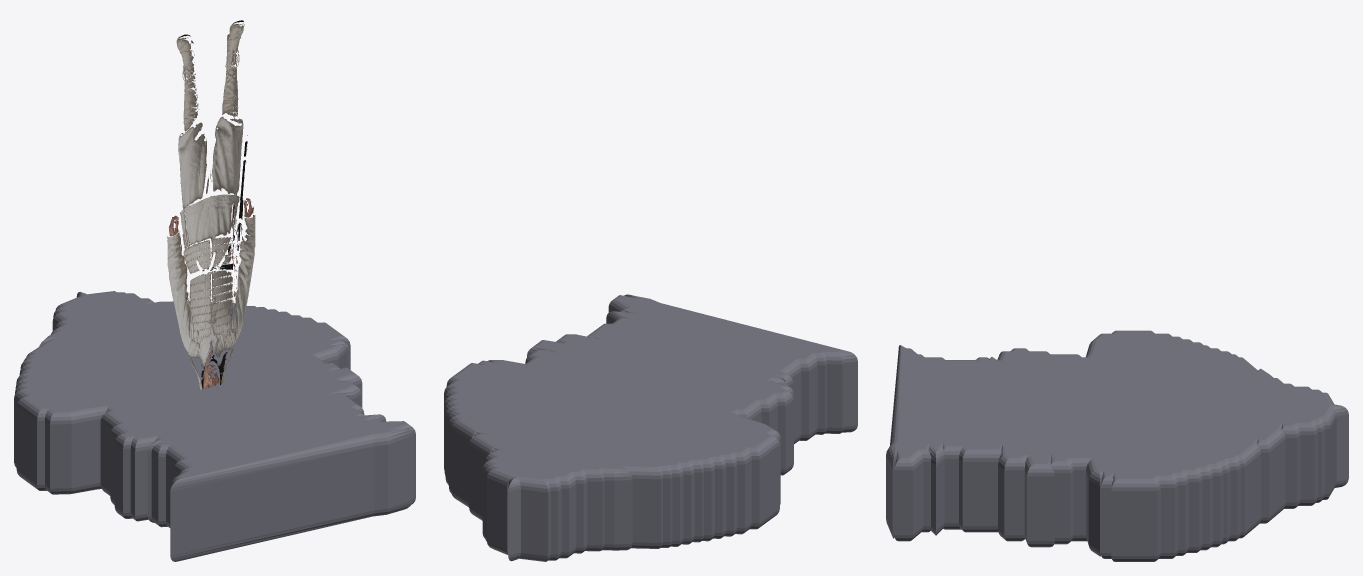
Rendered from korea_w.glb.
3 views of the same model, side by side, from view 1: azimuth 30°, elevation 25°; view 2: azimuth 150°, elevation 25°; view 3: azimuth 270°, elevation 25° (orthographic).
Parts seen in each view (by area): view 1: unit; view 2: unit; view 3: unit.
Boxes of the visible parts, box(x1,y1,x2,y2) form: unit: box(14, 20, 415, 561); unit: box(444, 294, 857, 561); unit: box(886, 330, 1348, 561).
Bounding box in the file's own units: 0.7416 × 1 × 0.9398.
Materials: 2 (1 with a texture image).
